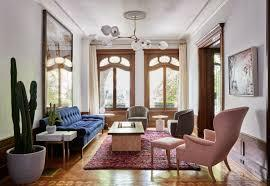chair: (173, 103, 249, 181), (169, 106, 192, 139), (153, 137, 179, 162), (125, 104, 150, 127)
door: (200, 48, 222, 127)
light: (98, 11, 169, 53)
sofa: (39, 103, 109, 156)
table: (34, 132, 79, 169), (107, 120, 144, 153), (86, 112, 114, 128), (153, 114, 168, 133)
